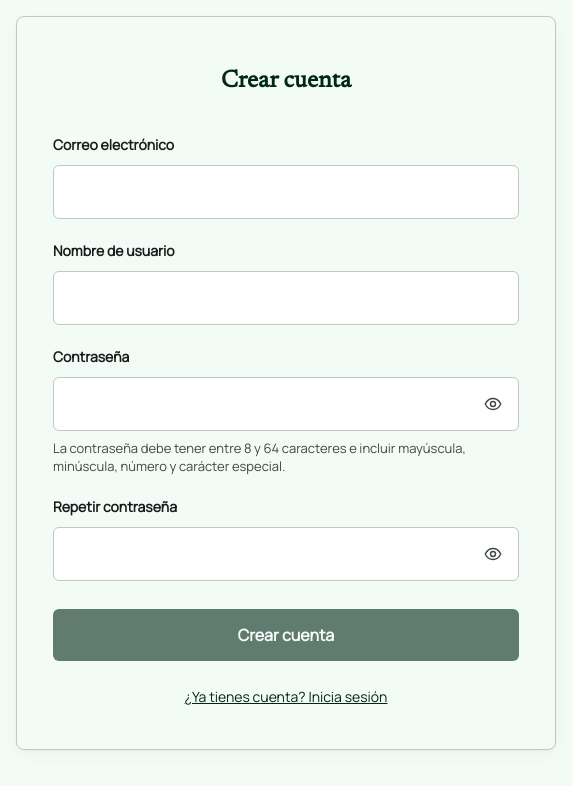
Test: Register Page - password visibility toggle › toggles password field independently without affecting sibling field (C7)
Type "Clave123!A" into the password field labelled "Contraseña" at (286, 404), box [53, 377, 519, 431]
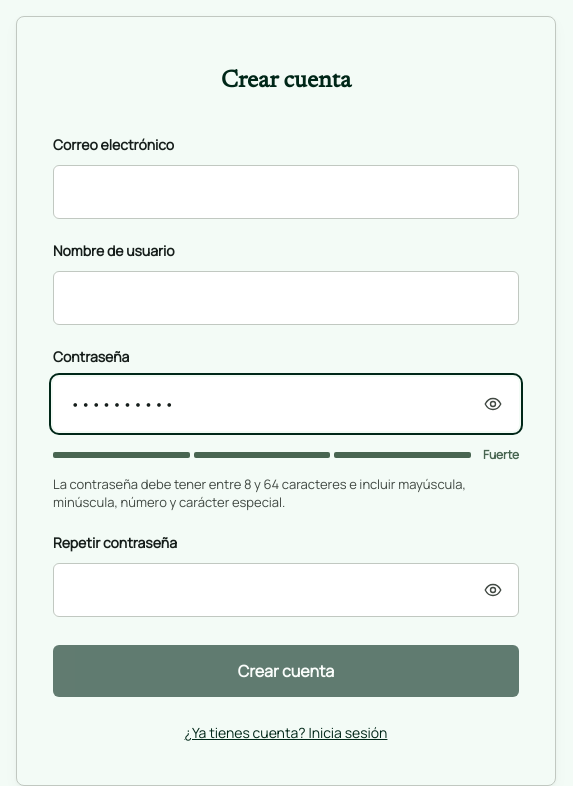
Type "Clave123!A" into the password field labelled "Repetir contraseña" at (286, 590), box [53, 563, 519, 617]
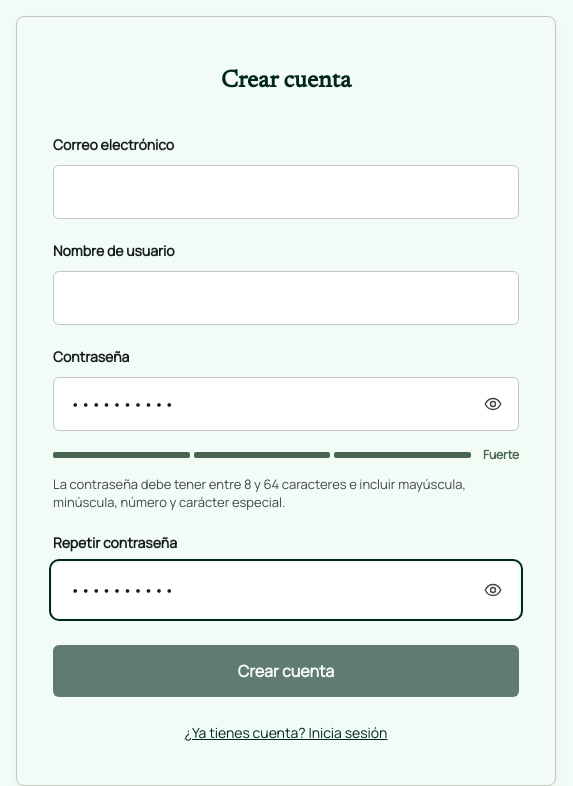
Click the 1st button named "Mostrar contraseña" at (493, 404), box [479, 390, 507, 418]
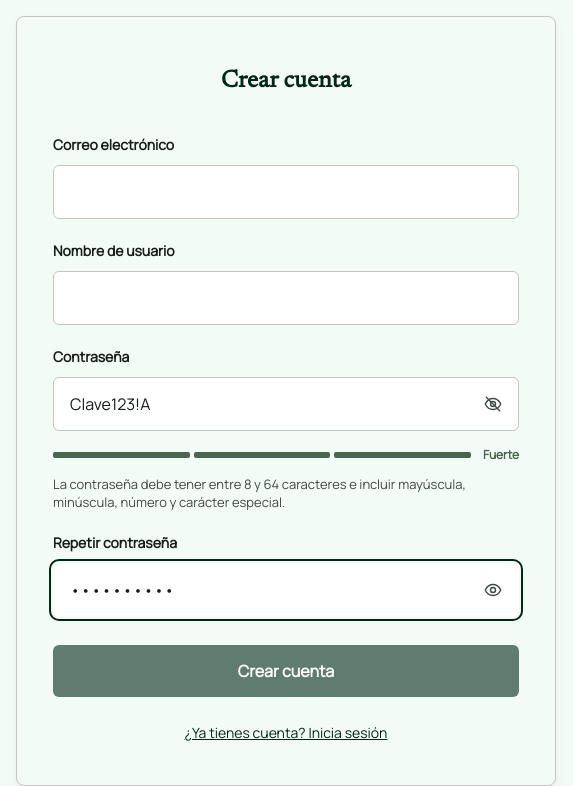
expect the field labelled "Contraseña" shows its text: met, box [53, 377, 519, 431]
